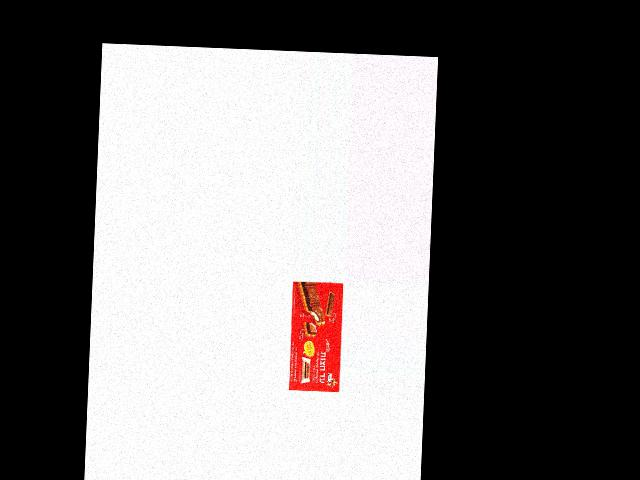chocolate: (287, 280, 344, 394)
